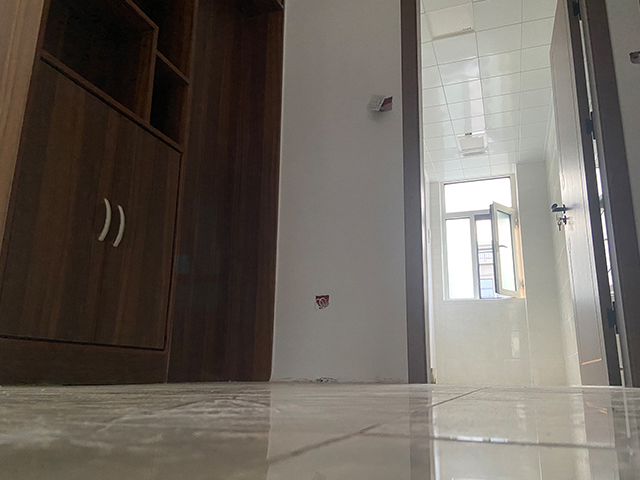cabinet: (1, 1, 286, 386)
